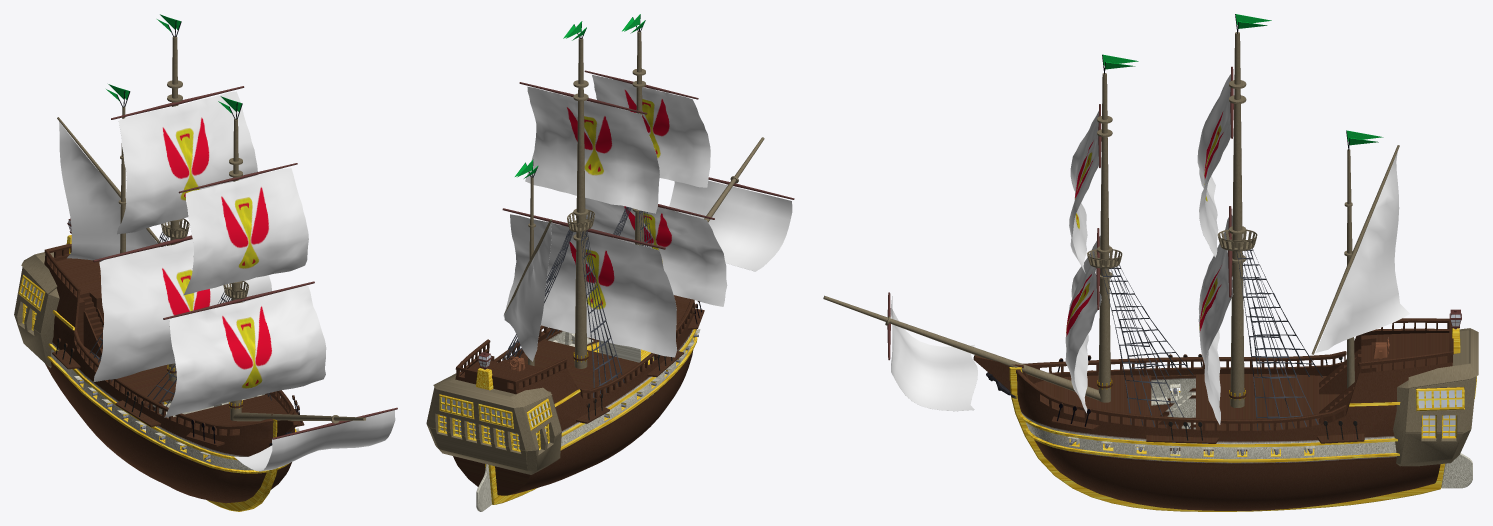
The model's file is ship.obj.
The picture shows the model from 3 angles, left to right: view 1: azimuth 30°, elevation 25°; view 2: azimuth 150°, elevation 25°; view 3: azimuth 270°, elevation 25°; orthographic projection. The views are drawn at different scales.
Parts seen in each view (by area): view 1: Object3, Object7, Object12, Object6, Object9, Object11, Object2, Object15, Object16, Object, Object1, Object17 (+6 smaller); view 2: Object9, Object12, Object7, Object1, Object3, Object15, Object6, Object, Object16, Object2, Object17, Object11 (+7 smaller); view 3: Object7, Object2, Object, Object16, Object11, Object17, Object1, Object14, Object15, Object13, Object9, Object3 (+8 smaller).
Boxes of the visible parts, box(x1,y1,x2,y2) form: Object3: box(164, 286, 326, 417); Object7: box(45, 247, 299, 503); Object12: box(117, 91, 257, 234); Object6: box(183, 168, 308, 295); Object9: box(93, 239, 271, 381); Object11: box(59, 121, 157, 261); Object2: box(49, 258, 287, 434); Object15: box(234, 410, 395, 471); Object16: box(18, 235, 296, 511); Object: box(120, 36, 365, 421); Object1: box(14, 252, 59, 367); Object17: box(44, 80, 339, 459); Object9: box(503, 214, 676, 357); Object12: box(525, 86, 659, 213); Object7: box(453, 302, 700, 495); Object1: box(426, 371, 561, 474); Object3: box(585, 197, 727, 306); Object15: box(669, 180, 792, 271); Object6: box(592, 74, 710, 187); Object: box(528, 31, 764, 368); Object16: box(437, 329, 697, 504); Object2: box(461, 295, 690, 398); Object17: box(476, 69, 738, 511); Object11: box(504, 223, 551, 361); Object7: box(1017, 322, 1452, 510); Object2: box(1034, 333, 1449, 453); Object: box(823, 32, 1354, 407); Object16: box(1009, 328, 1476, 511); Object11: box(1316, 152, 1409, 352); Object17: box(885, 80, 1472, 488); Object1: box(1393, 328, 1478, 466); Object14: box(1100, 248, 1322, 430); Object15: box(891, 296, 977, 411); Object13: box(1016, 318, 1453, 430); Object9: box(1198, 215, 1233, 424); Object3: box(1065, 235, 1101, 413).
Bounding box in the file's own units: 20.51 × 49.75 × 59.53.
